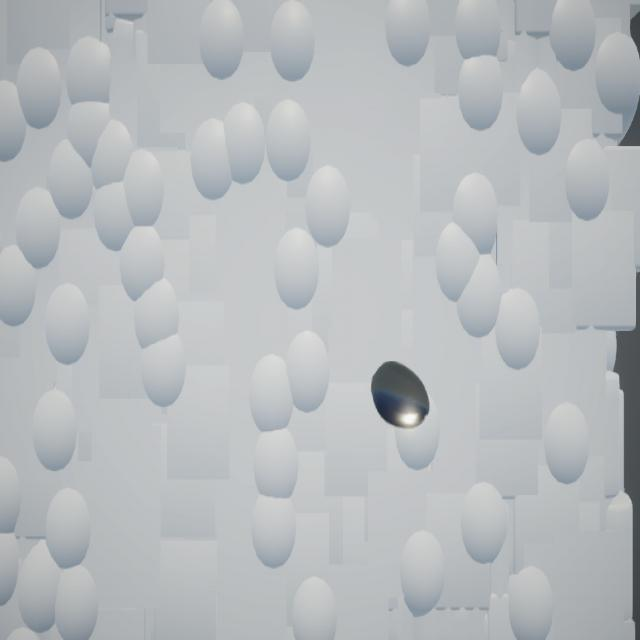top_spoon: (371, 362, 431, 430)
